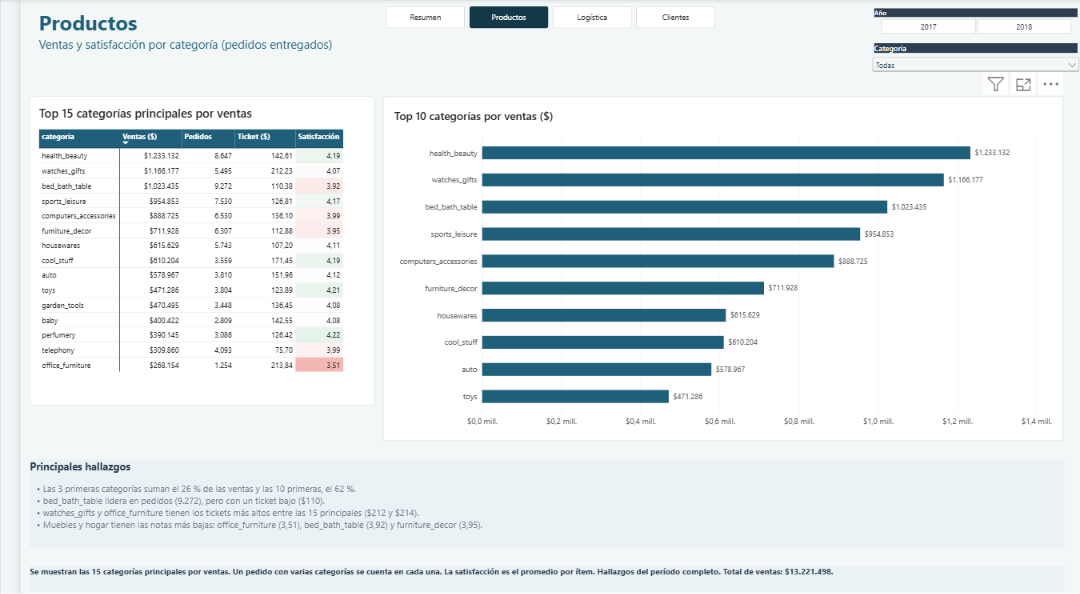

What the dashboard file says about the page in this screenshot:
{"tool":"powerbi","page":{"name":"Productos","canvas":[1920,1080],"ordinal":1},"visuals":[{"type":"clusteredBarChart","title":"Top 10 categorías por ventas ($)","fields":{"Category":["v_ventas.categoria"],"Y":["v_ventas.Ventas Ítems"]},"box":[656,176,1232,624],"z":0},{"type":"pivotTable","title":"Top 15 categorías principales por ventas","fields":{"Rows":["v_ventas.categoria"],"Values":["v_ventas.Ventas Ítems","v_ventas.Pedidos Categoría","v_ventas.Ticket Categoría","v_ventas.Satisfacción Categoría"]},"box":[16,176,624,560],"z":1000},{"type":"slicer","fields":{"Values":["Calendario.Año"]},"box":[1536,16,384,48],"z":2000},{"type":"slicer","fields":{"Values":["v_ventas.categoria"]},"box":[1536,80,384,80],"z":3000},{"type":"pageNavigator","box":[660,12,596,40],"z":4000},{"type":"textbox","box":[32,16,592,96],"z":5000},{"type":"textbox","box":[16,832,1872,160],"z":6000},{"type":"textbox","box":[16,1024,1872,48],"z":7000}]}

Visuals, with their boxes in screenshot pixels (x1, y1, x2, y2), scaled from the page's 1920x1080 canvas onto the 1080x594 screenshot:
"Top 10 categorías por ventas ($)" clusteredBarChart: [369,97,1062,440]
"Top 15 categorías principales por ventas" pivotTable: [9,97,360,405]
slicer - Calendario.Año: [864,9,1079,35]
slicer - v_ventas.categoria: [864,44,1079,88]
pageNavigator: [371,7,706,29]
textbox: [18,9,351,62]
textbox: [9,458,1062,546]
textbox: [9,563,1062,590]
